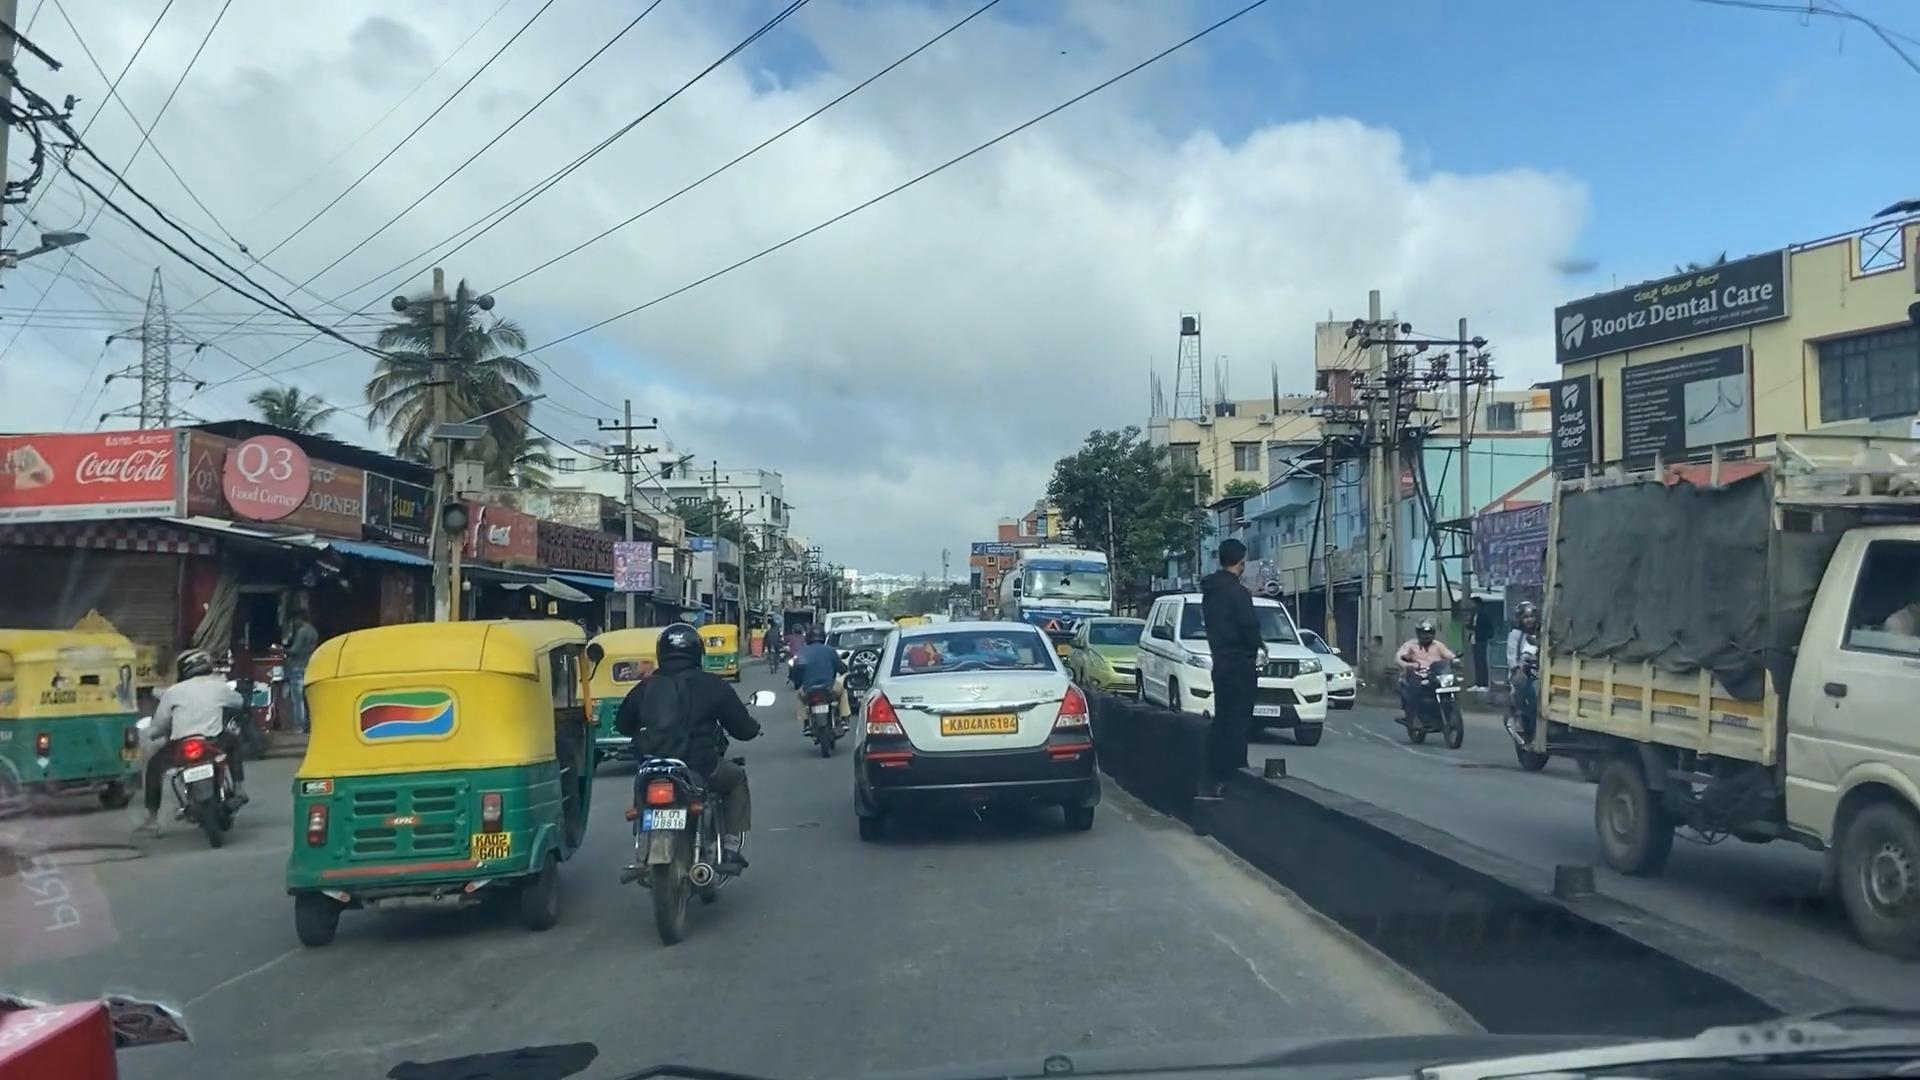LMV: (293, 605, 582, 952), (853, 608, 1118, 858), (559, 607, 715, 1000)
RoadDamages: (273, 997, 489, 1056), (182, 951, 284, 1009)
